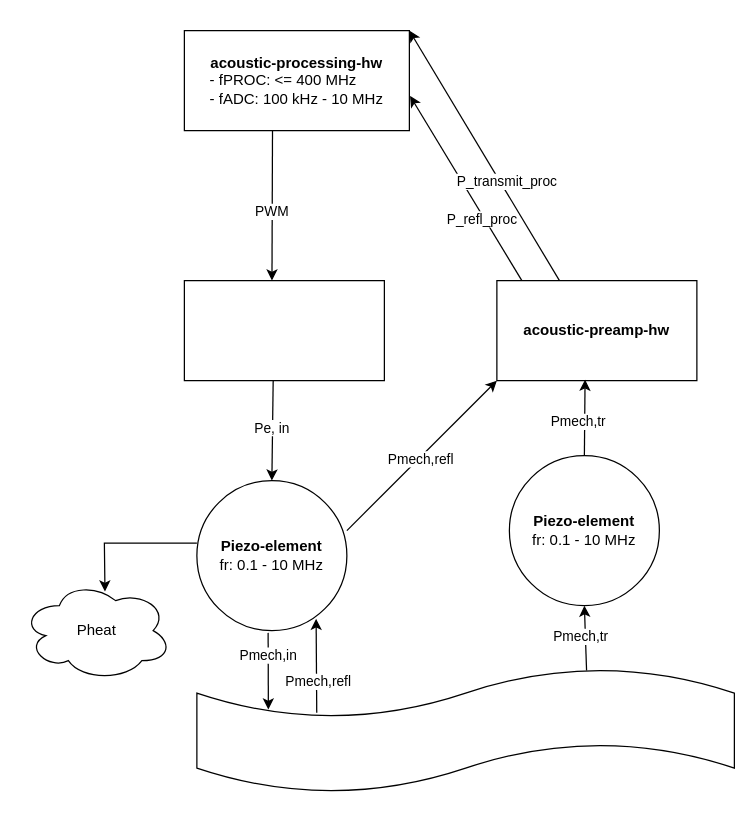
Some shapes in this 756 by 815 pixel diagram are drawn without their labels. The shapes that lost their labels are listed below. From the top down, each one's centre as x and y in pixels, then its label:
At point 283,330: "acoustic-piezodriver-hw - Vpp: 45 V, Ip: 4 A, Irms: 3 A - f: 100 kHz - 5 MHz".
At point 465,730: "(ISOTROPIC) MATERIAL".
